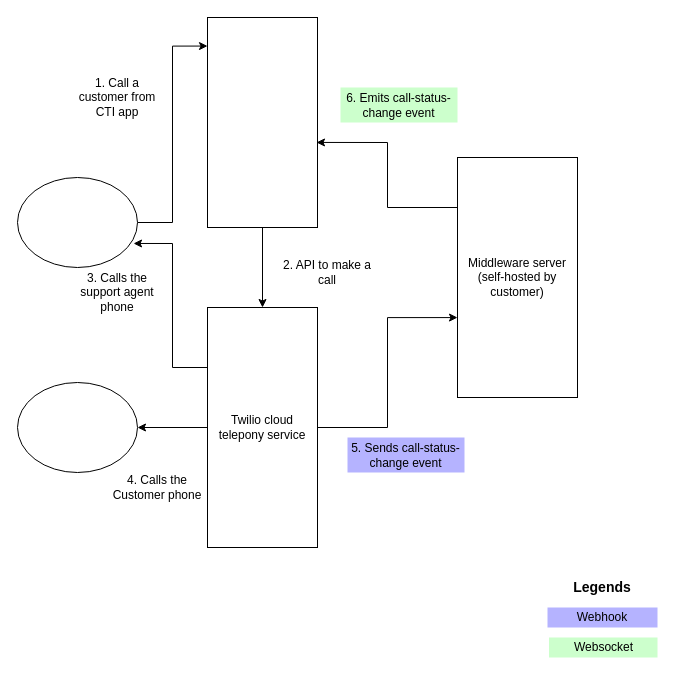
Some shapes in this 675 by 675 pixel diagram are drawn without their labels. Each missing label, with the box of its shape:
CTI app in Freshdesk: (206, 16, 318, 228)
Customer: (16, 382, 138, 472)
Support Agent: (16, 176, 138, 268)
